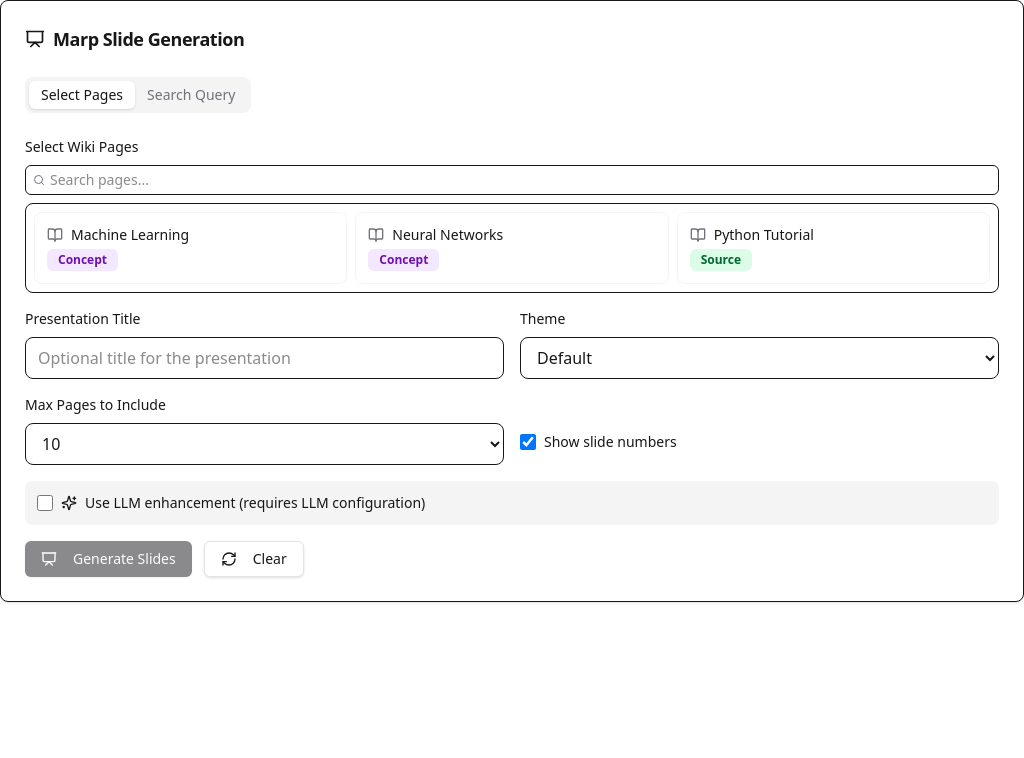
it: MarpSlides › should display slide generation results
Check: the text "Machine Learning" is shown, box [71,225,189,245]
Click the button "Machine Learning Concept" at (130, 234), box [34,212,347,284]
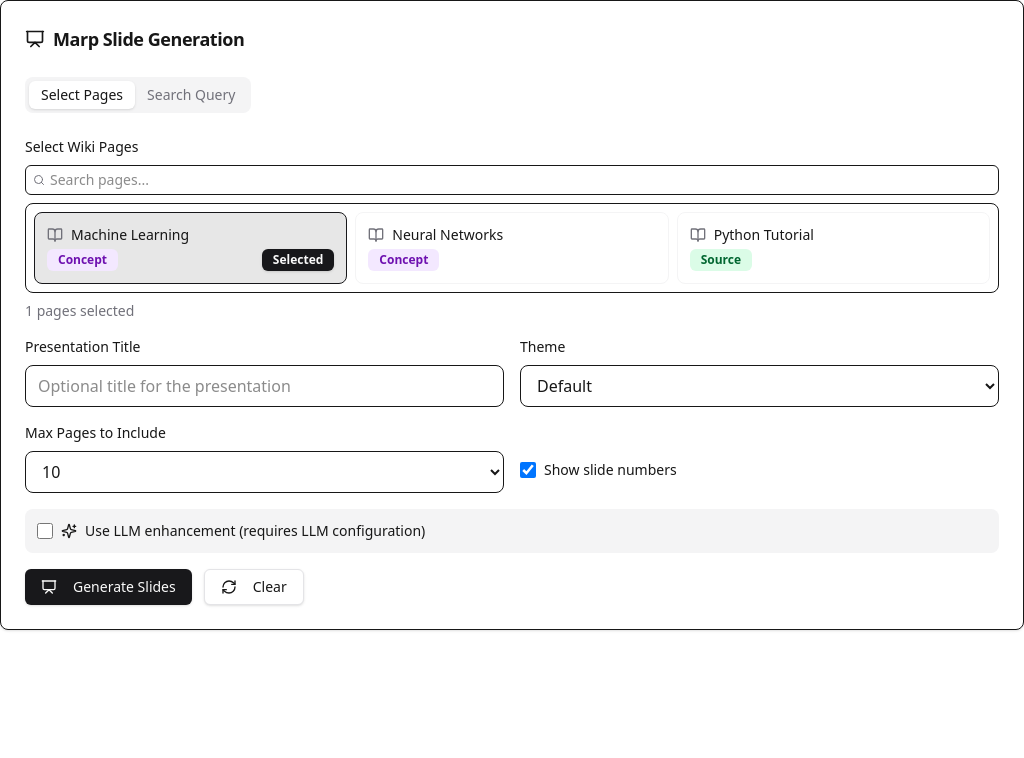
Click the button "Generate Slides" at (108, 587), box [25,569,192,605]
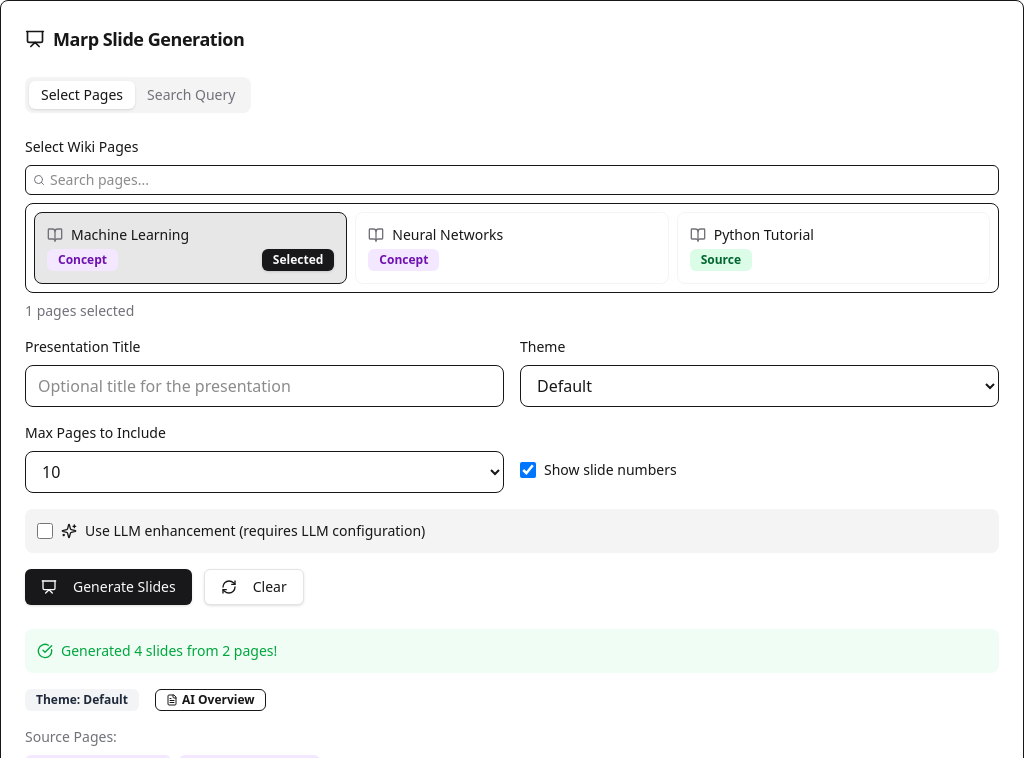
Check: the text "Generated 4 slides from 2 pages!" is shown, box [61,641,277,661]
